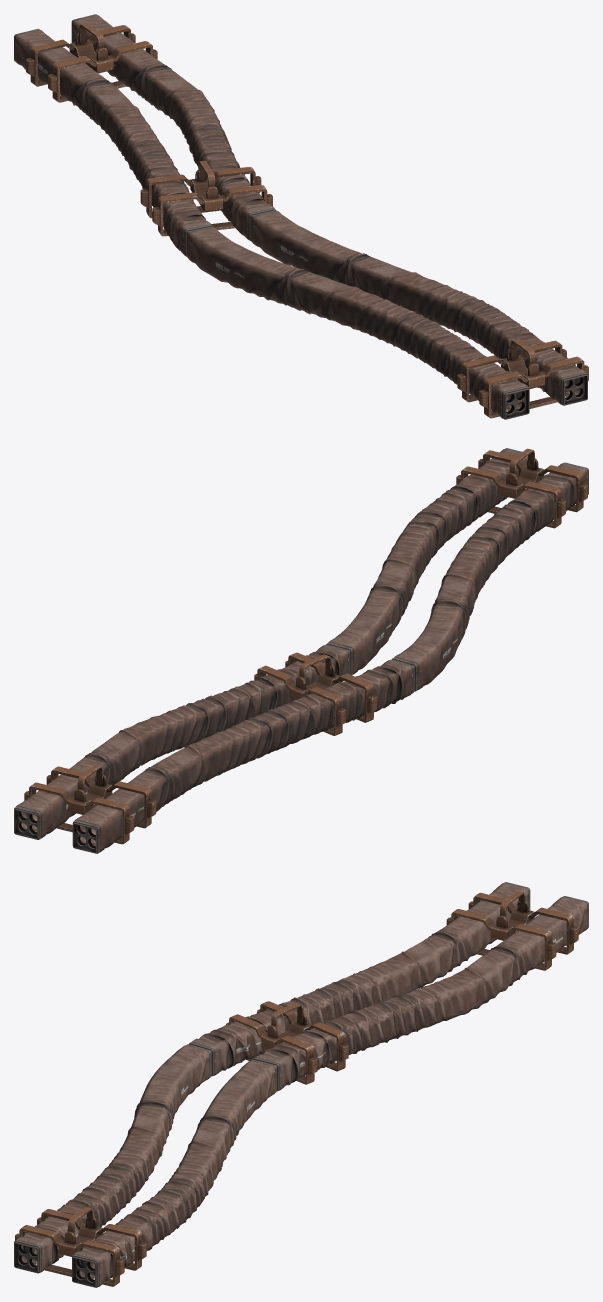
Rendered from SM_Wire02_LineStyle02.fbx.
The picture shows the model from 3 angles, top to bottom: view 1: azimuth 30°, elevation 25°; view 2: azimuth 150°, elevation 25°; view 3: azimuth 330°, elevation 25°; orthographic projection.
Parts seen in each view (by area): view 1: SM_Wire02_LineStyle02_LOD0; view 2: SM_Wire02_LineStyle02_LOD0; view 3: SM_Wire02_LineStyle02_LOD0.
Boxes of the visible parts, box(x1,y1,x2,y2) form: SM_Wire02_LineStyle02_LOD0: box(14, 14, 588, 419); SM_Wire02_LineStyle02_LOD0: box(14, 448, 588, 853); SM_Wire02_LineStyle02_LOD0: box(14, 882, 588, 1287).
Bounding box in the file's own units: 79.94 × 397 × 23.43.
1 material, 1 textured.
